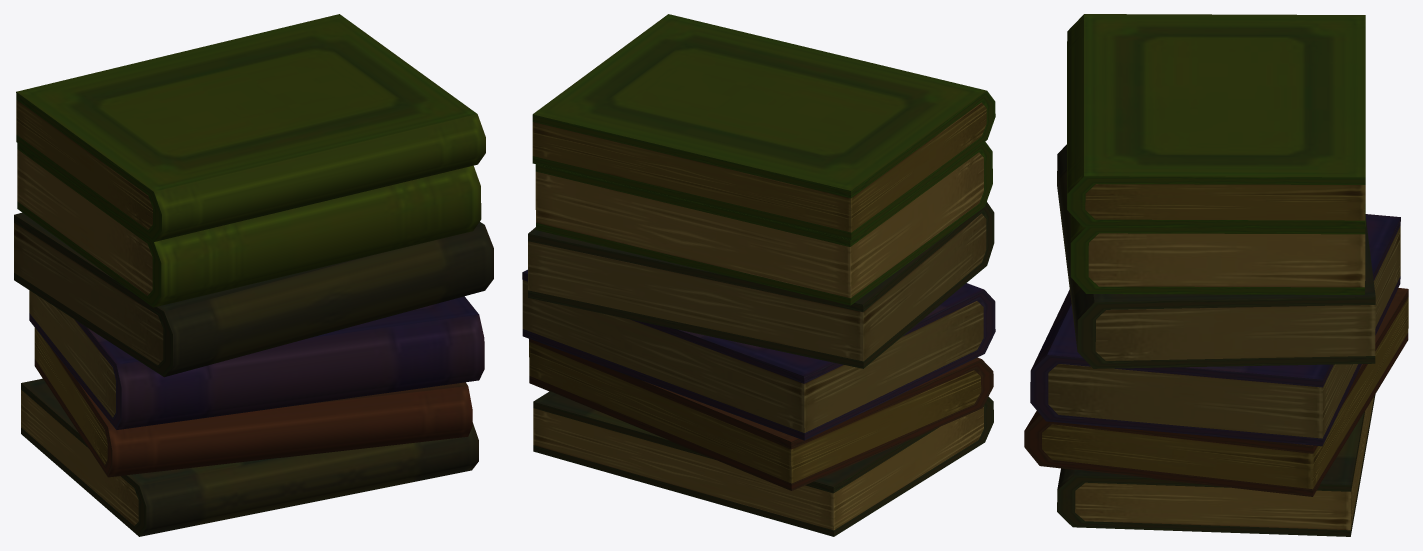
Rendered from Book_Stack_3.gltf.
The picture shows the model from 3 angles, left to right: view 1: azimuth 30°, elevation 25°; view 2: azimuth 150°, elevation 25°; view 3: azimuth 270°, elevation 25°; orthographic projection. The views are drawn at different scales.
Visible parts, largest first — view 1: Book_Stack_3; view 2: Book_Stack_3; view 3: Book_Stack_3.
Boxes of the visible parts, left/top/right/bottom form: Book_Stack_3: left=14, top=14, right=493, bottom=536; Book_Stack_3: left=522, top=14, right=995, bottom=536; Book_Stack_3: left=1024, top=14, right=1408, bottom=536.
Size of the model in its own units: 0.3139 by 0.2782 by 0.2704.
1 material, 1 textured.
